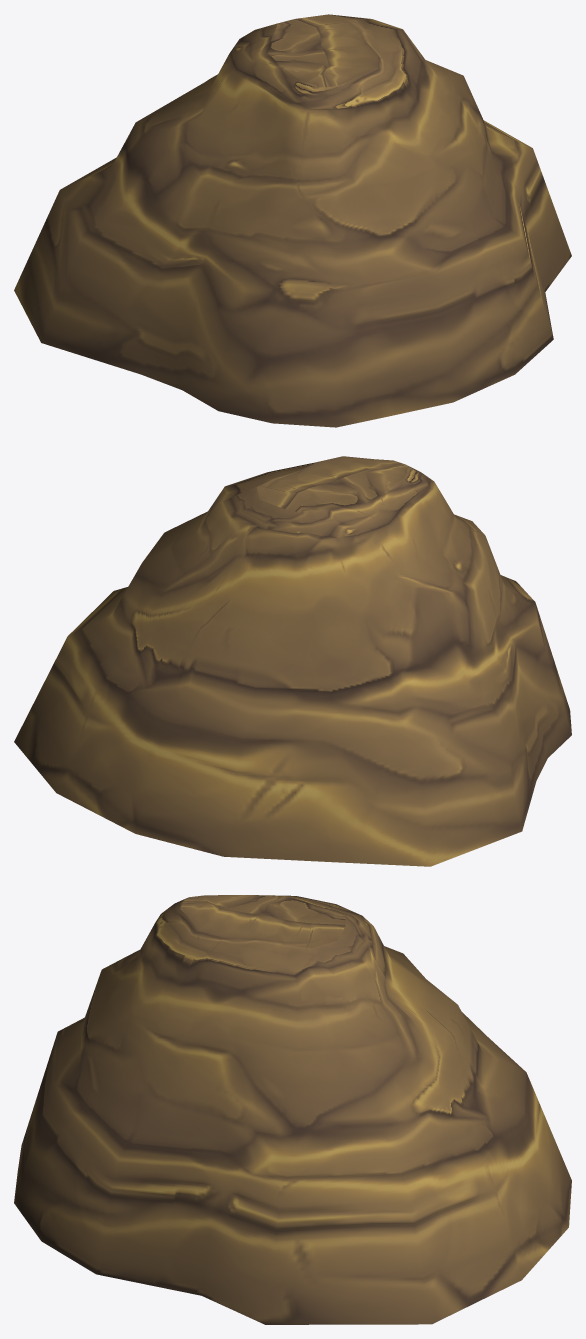
File: Prop_Cliff_04.FBX
The picture shows the model from 3 angles, top to bottom: view 1: azimuth 30°, elevation 25°; view 2: azimuth 150°, elevation 25°; view 3: azimuth 270°, elevation 25°; orthographic projection. The views are drawn at different scales.
Visible parts, largest first — view 1: Prop_Cliff_04; view 2: Prop_Cliff_04; view 3: Prop_Cliff_04.
Part boxes in pixels (<box>): Prop_Cliff_04: <box>14,14,571,427</box>; Prop_Cliff_04: <box>14,456,571,866</box>; Prop_Cliff_04: <box>14,895,571,1324</box>.
Size of the model in its own units: 4.89 by 2.59 by 4.65.
